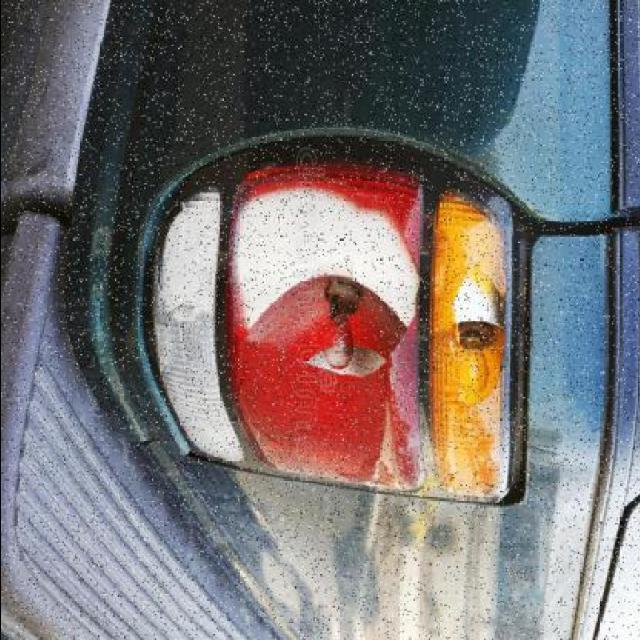Signlight-Damage: (409, 119, 528, 558)
Taillight-Damage: (113, 145, 556, 536)
